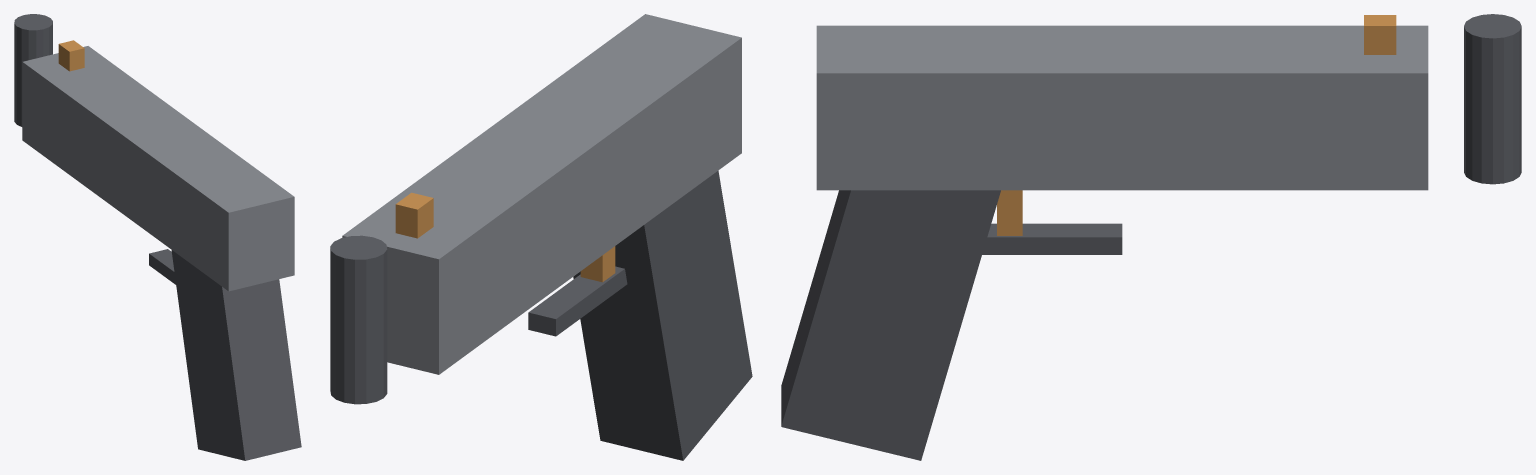
File: pistol.glb
The picture shows the model from 3 angles, left to right: view 1: azimuth 30°, elevation 25°; view 2: azimuth 150°, elevation 25°; view 3: azimuth 270°, elevation 25°; orthographic projection. The views are drawn at different scales.
Parts seen in each view (by area): view 1: geometry_0; view 2: geometry_0; view 3: geometry_0.
Boxes of the visible parts, x1,y1,x2,y2 form: geometry_0: (14, 14, 301, 460); geometry_0: (330, 14, 752, 460); geometry_0: (781, 14, 1521, 460).
Bounding box in the file's own units: 0.035 × 0.1439 × 0.23.
